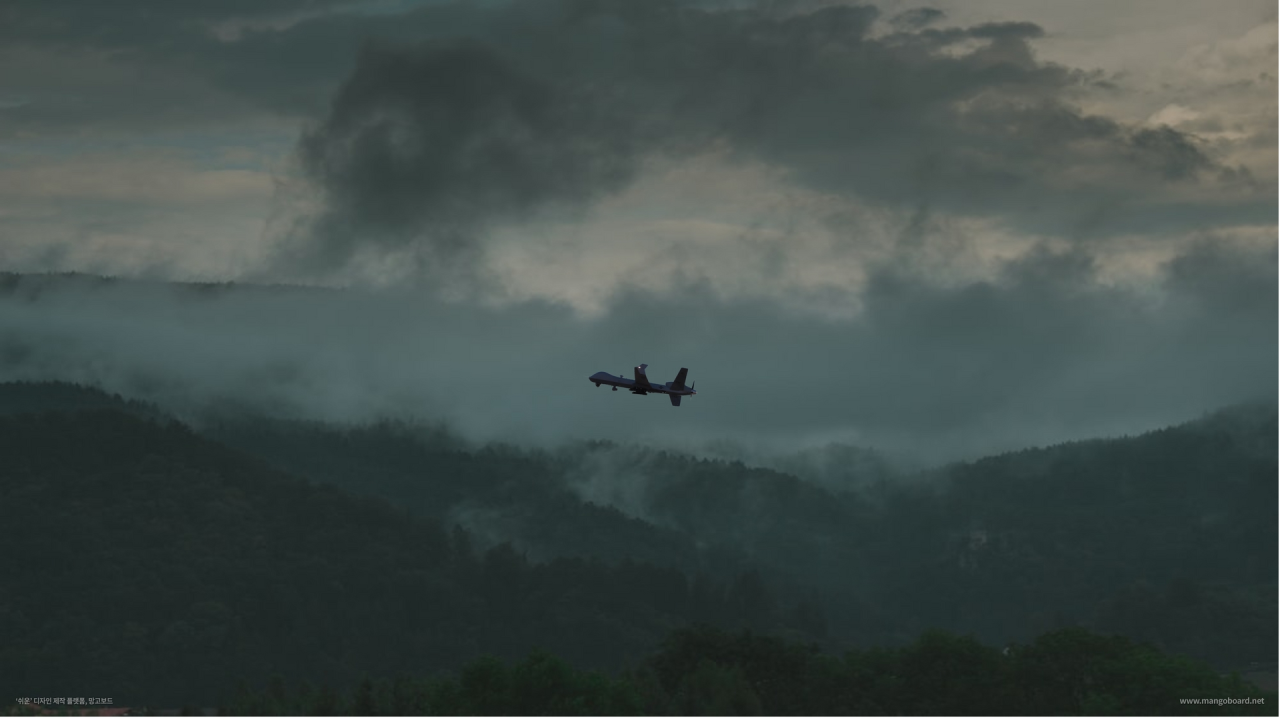military drone: (588, 363, 696, 406)
